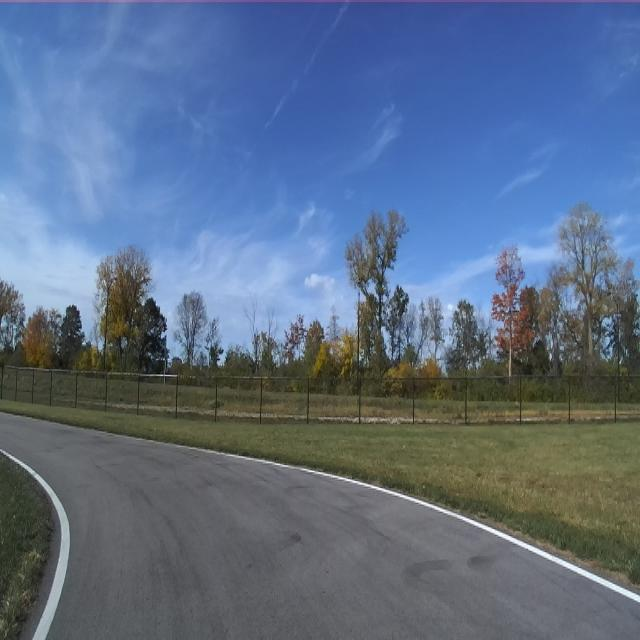white-line: (172, 443, 640, 603), (0, 449, 70, 639)
